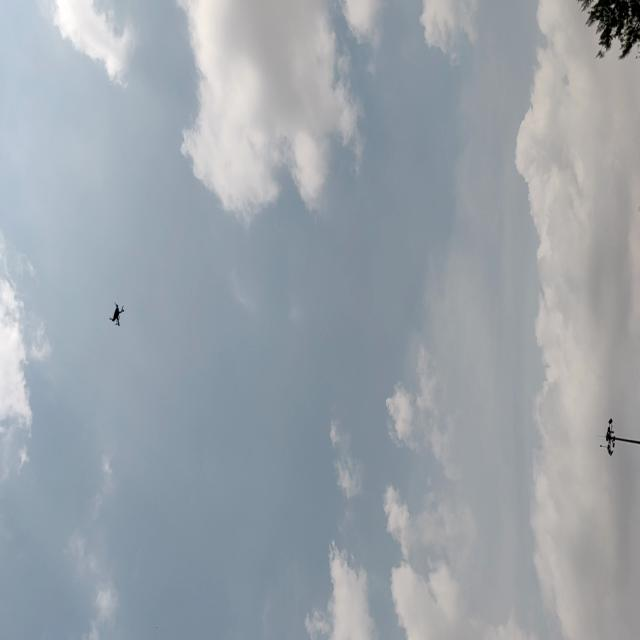drone: (100, 296, 130, 335)
